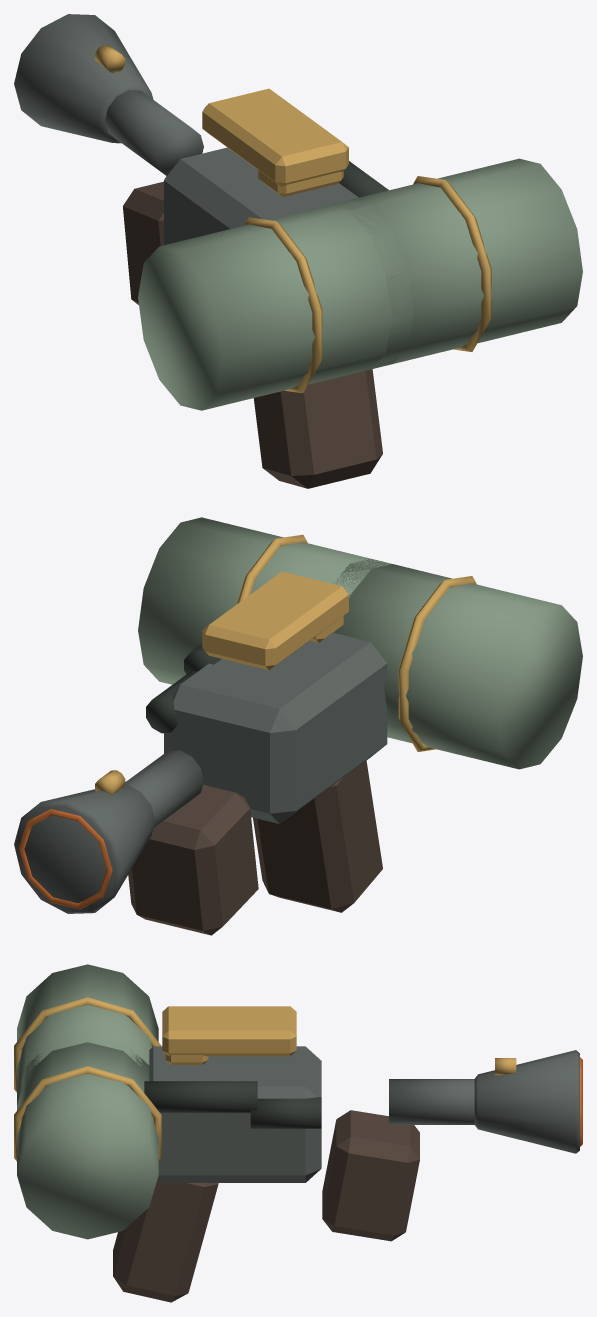
The model's file is Flamethrower.glb.
The picture shows the model from 3 angles, top to bottom: view 1: azimuth 30°, elevation 25°; view 2: azimuth 150°, elevation 25°; view 3: azimuth 270°, elevation 25°; orthographic projection. The views are drawn at different scales.
Parts seen in each view (by area): view 1: Fuel tank left, Fuel tank right, Grip, Nozzle bell, Main body, Top handle, Nozzle throat, Foregrip, Tank band, Tank band.001, Tank valve, Hose rear (+1 smaller); view 2: Fuel tank left, Main body, Fuel tank right, Foregrip, Grip, Nozzle bell, Top handle, Nozzle throat, Tank band, Nozzle ring, Hose bend, Tank band.001 (+1 smaller); view 3: Fuel tank right, Main body, Foregrip, Fuel tank left, Grip, Nozzle bell, Top handle, Nozzle throat, Hose rear, Hose bend, Tank band.001, Tank band.
Part boxes in pixels (box(x1,y1,x2,y2)): Fuel tank left: box(138, 200, 413, 410); Fuel tank right: box(342, 158, 582, 366); Grip: box(253, 369, 382, 488); Nozzle bell: box(14, 14, 153, 143); Main body: box(164, 147, 358, 245); Top handle: box(202, 88, 348, 186); Nozzle throat: box(105, 90, 203, 175); Foregrip: box(123, 181, 163, 304); Tank band: box(244, 217, 322, 393); Tank band.001: box(413, 176, 491, 351); Tank valve: box(258, 170, 343, 196); Hose rear: box(339, 161, 388, 197); Fuel tank left: box(333, 559, 582, 769); Main body: box(164, 633, 387, 823); Fuel tank right: box(138, 517, 391, 684); Foregrip: box(128, 784, 258, 935); Grip: box(253, 760, 382, 912); Nozzle bell: box(14, 784, 155, 913); Top handle: box(202, 571, 348, 670); Nozzle throat: box(125, 750, 203, 827); Tank band: box(398, 576, 476, 751); Nozzle ring: box(18, 809, 112, 909); Hose bend: box(146, 671, 198, 733); Tank band.001: box(237, 534, 307, 603); Fuel tank right: box(17, 1042, 158, 1239); Main body: box(149, 1046, 321, 1182); Foregrip: box(322, 1110, 419, 1241); Fuel tank left: box(17, 964, 158, 1105); Grip: box(113, 1183, 218, 1302); Nozzle bell: box(474, 1050, 579, 1153); Top handle: box(162, 1006, 296, 1056); Nozzle throat: box(389, 1079, 474, 1124); Hose rear: box(144, 1081, 257, 1112); Hose bend: box(250, 1097, 321, 1128); Tank band.001: box(14, 1066, 161, 1161); Tank band: box(14, 997, 161, 1092).
Size of the model in its own units: 0.98 by 0.8455 by 1.61.
